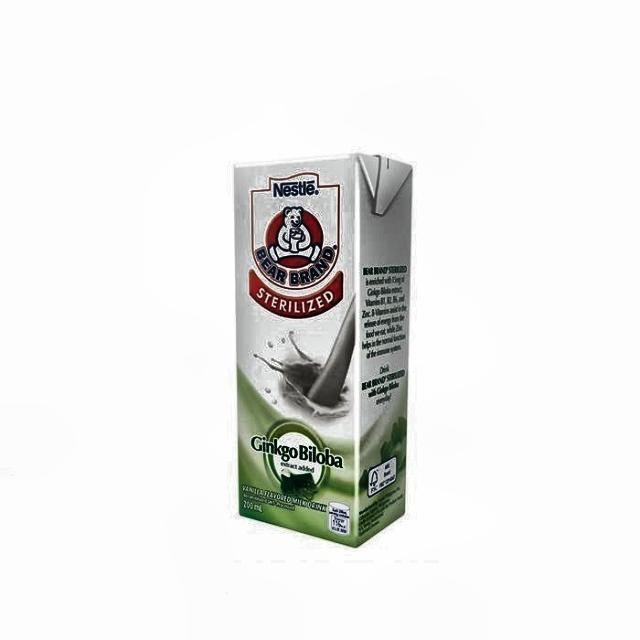cardboard: (233, 153, 412, 546)
